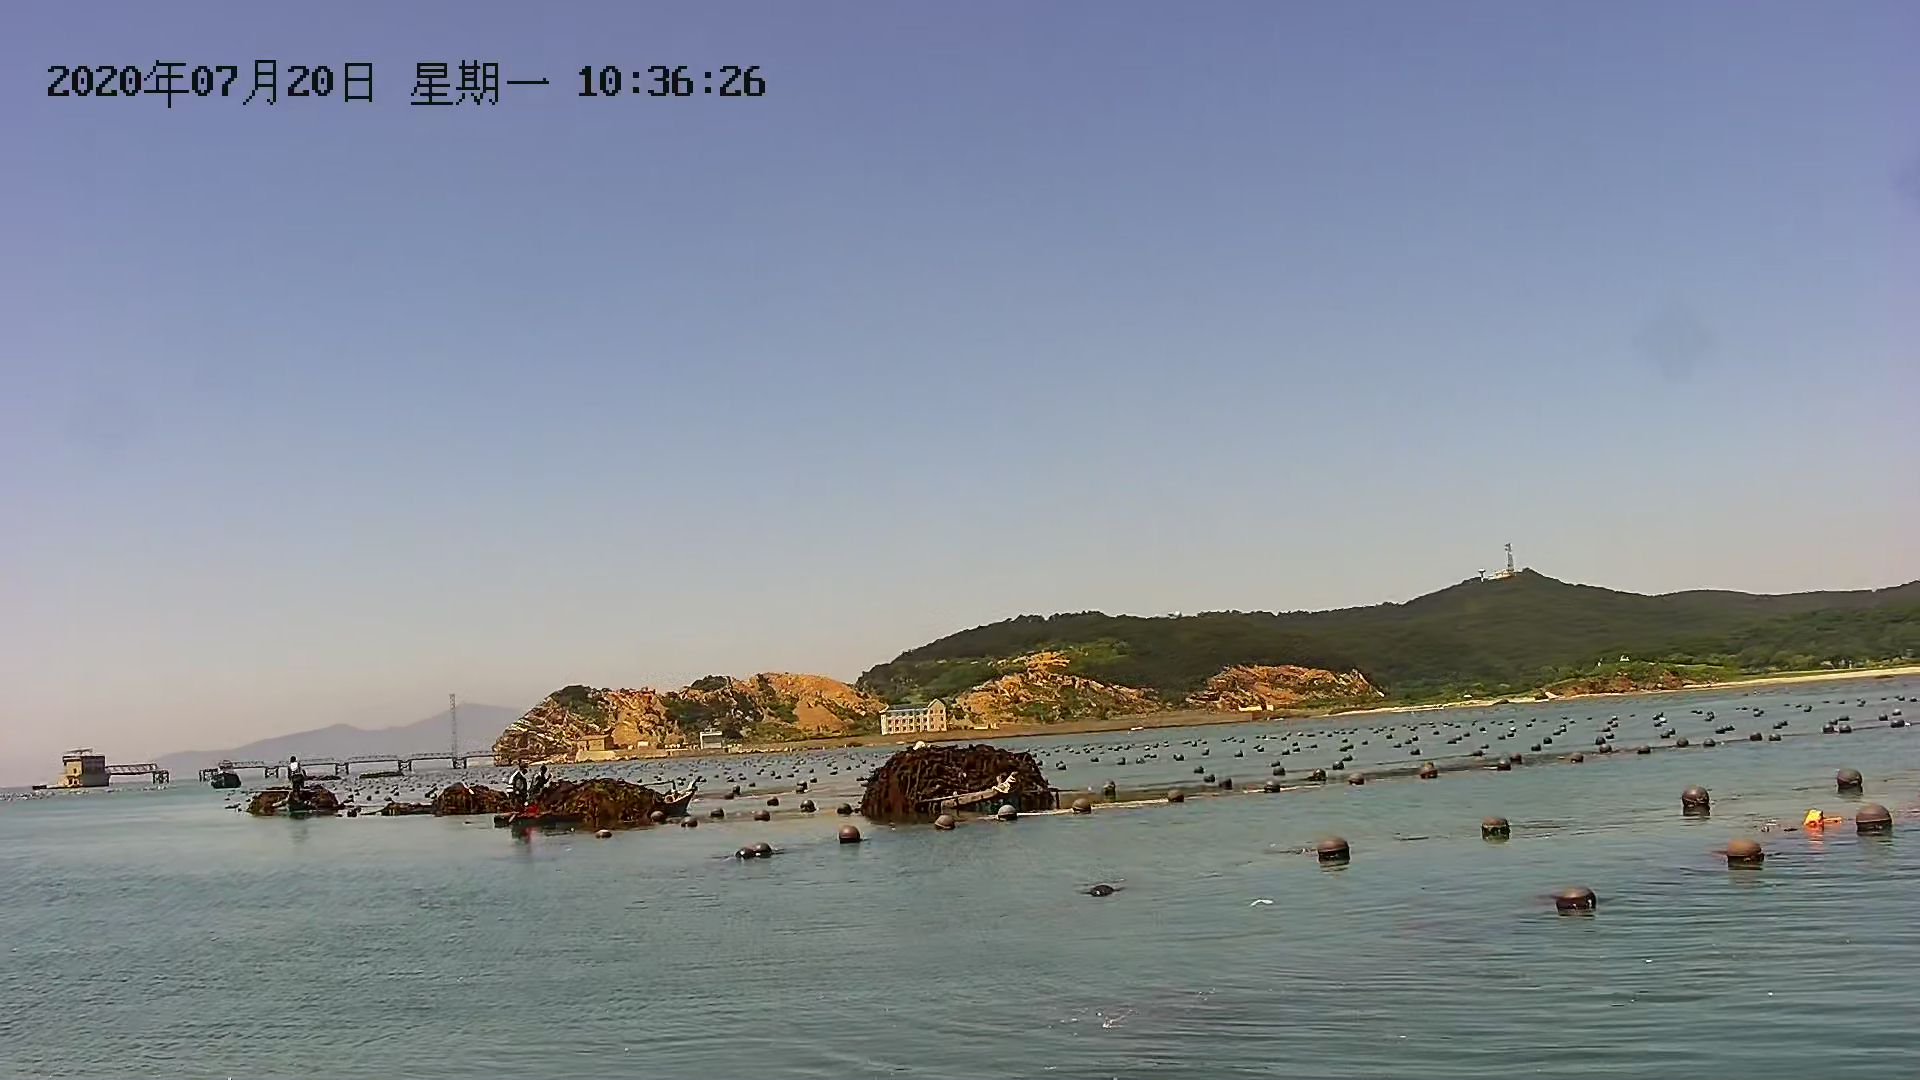ball: (1548, 878, 1601, 920), (1851, 800, 1896, 837), (1724, 837, 1766, 873), (1315, 832, 1353, 866), (1477, 808, 1513, 843), (1833, 761, 1867, 796), (1681, 785, 1714, 818), (733, 840, 764, 865), (837, 822, 862, 845), (934, 810, 957, 833), (1162, 785, 1187, 803), (997, 802, 1018, 823), (753, 839, 774, 858), (1069, 796, 1092, 815)
harbor: (61, 744, 506, 789)
rubbish: (857, 749, 1054, 815), (516, 773, 673, 831), (429, 783, 506, 820), (249, 789, 342, 818)
